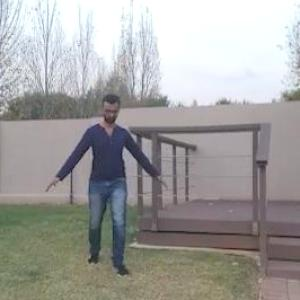land: (56, 87, 174, 291)
